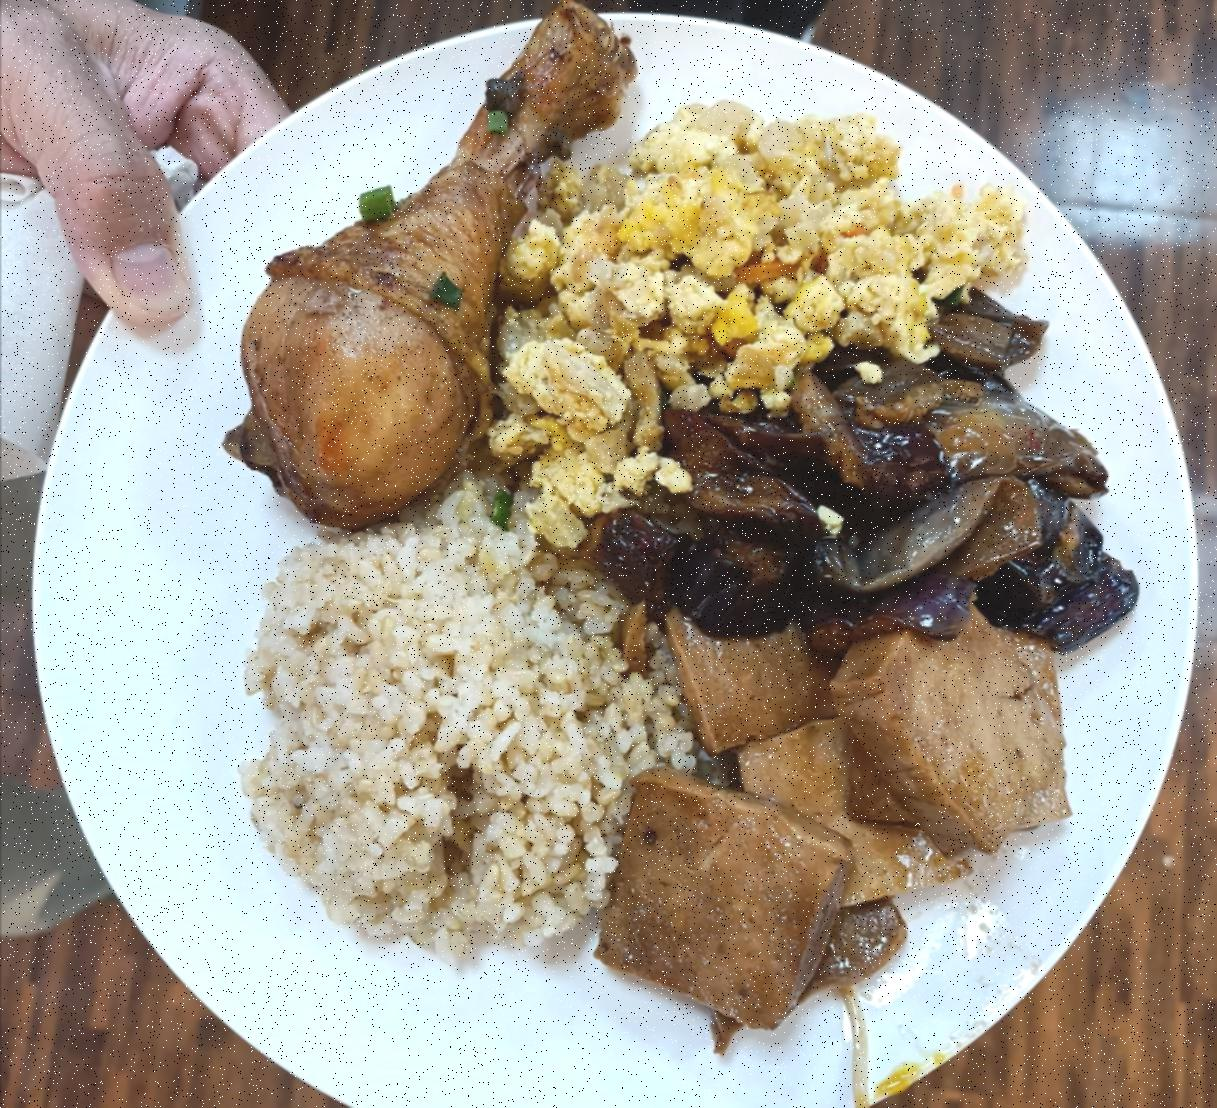brown rice: (256, 513, 640, 943)
plate: (7, 0, 1202, 1098)
side dish: (492, 105, 1027, 552), (637, 608, 1064, 1023), (648, 328, 1122, 604)
small grilled chicken leg: (238, 8, 638, 504)
